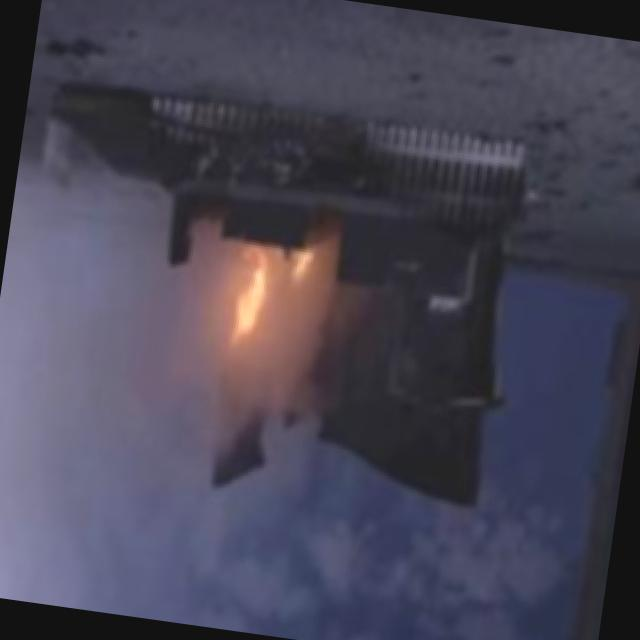fire: (189, 227, 320, 400)
smoke: (0, 331, 201, 617)
